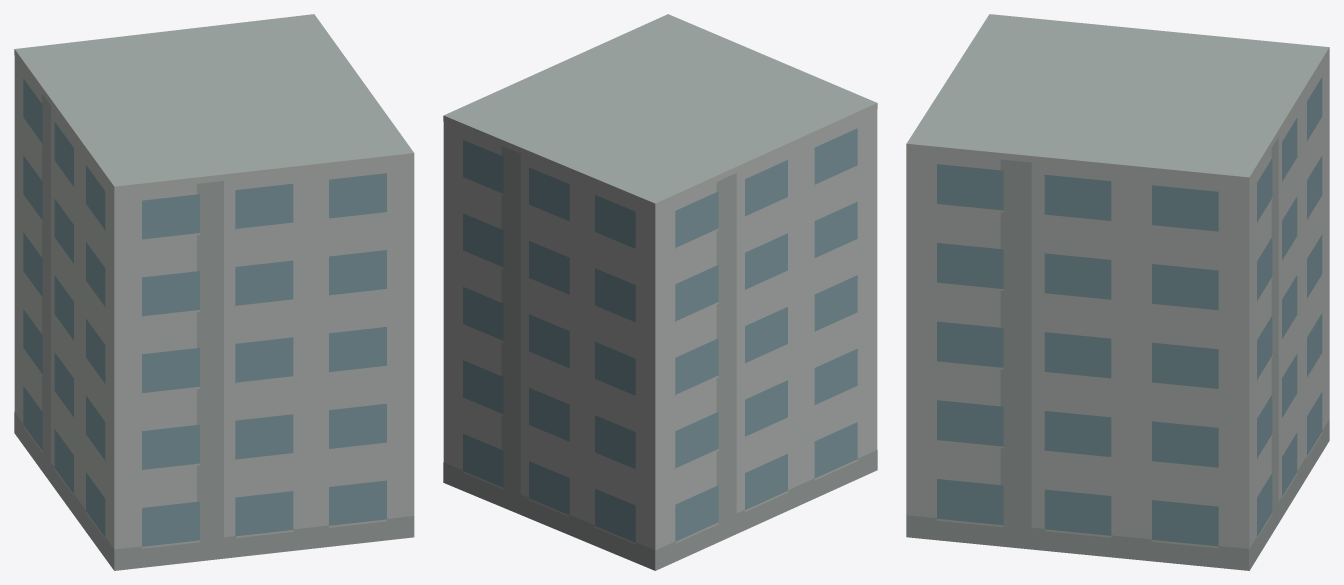
Rendered from survey-upis-32853045.glb.
3 renders of one model, left to right at view 1: azimuth 30°, elevation 25°; view 2: azimuth 150°, elevation 25°; view 3: azimuth 270°, elevation 25°, orthographic. The views are drawn at different scales.
Parts seen in each view (by area): view 1: survey-upis-32853045.tmp; view 2: survey-upis-32853045.tmp; view 3: survey-upis-32853045.tmp.
Boxes of the visible parts, box(x1,y1,x2,y2) form: survey-upis-32853045.tmp: box(14, 14, 414, 570); survey-upis-32853045.tmp: box(443, 14, 877, 570); survey-upis-32853045.tmp: box(906, 14, 1329, 570).
Size of the model in its own units: 13.01 by 14.6 by 14.24.
